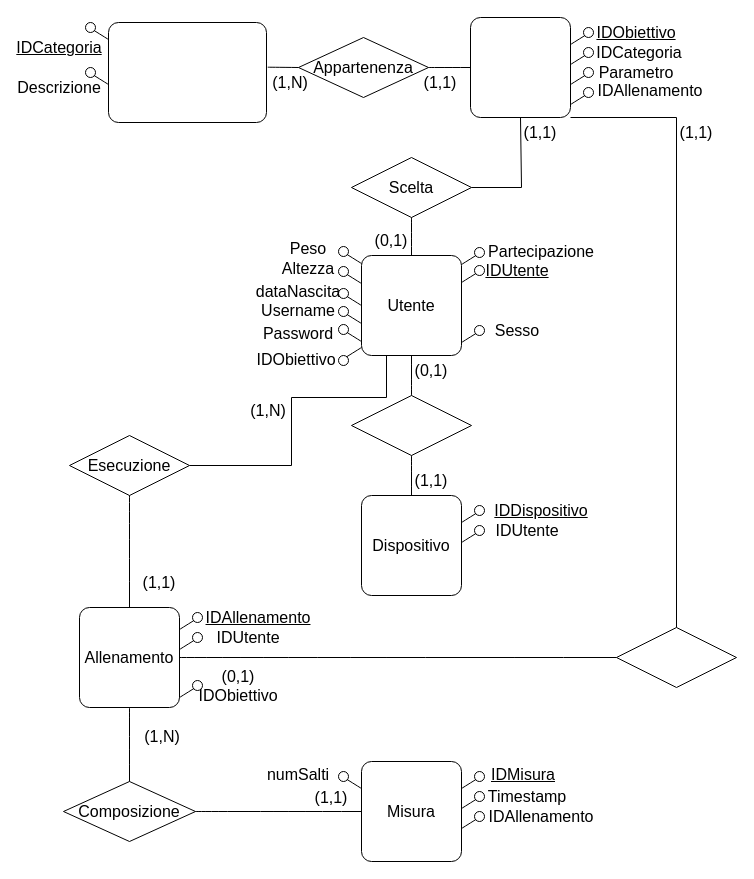
Some shapes in this 754 by 879 pixel diagram are drawn without their labels. Here are the shapes that lost their labels. From the top down, the centre of each, then its label:
the point at 187,72: CategoriaObiettivo
the point at 520,67: Obiettivo
the point at 411,425: Possesso
the point at 676,657: Prefissione
